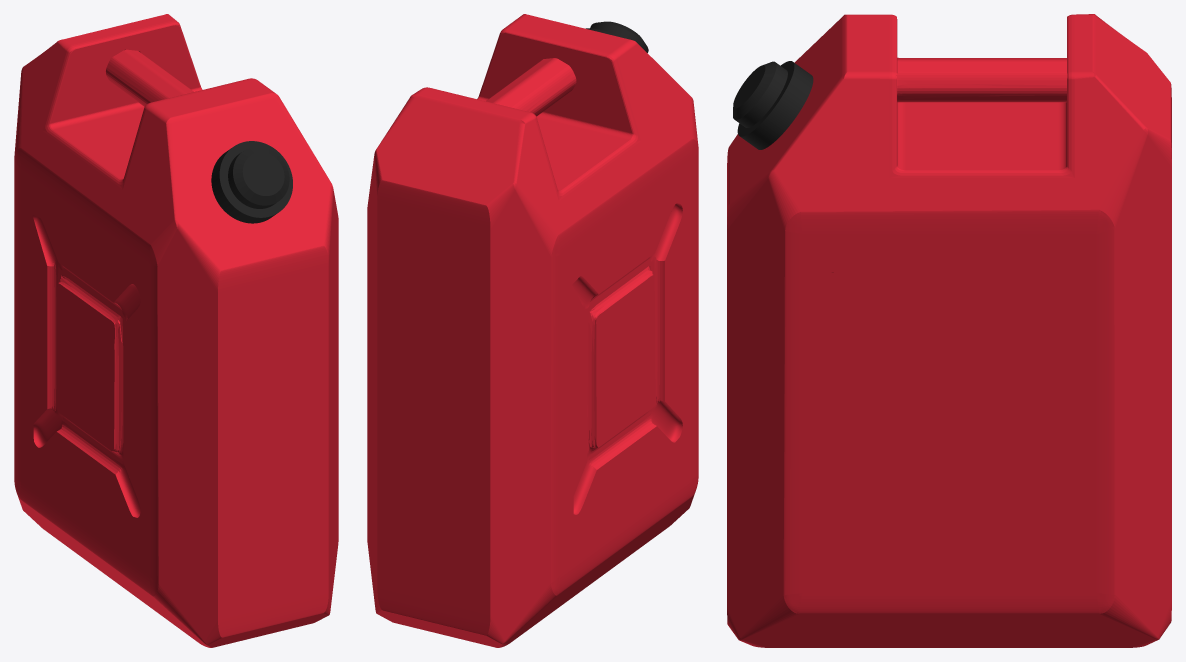
The model's file is 기름통.fbx.
The picture shows the model from 3 angles, left to right: view 1: azimuth 30°, elevation 25°; view 2: azimuth 150°, elevation 25°; view 3: azimuth 270°, elevation 25°; orthographic projection. The views are drawn at different scales.
Parts seen in each view (by area): view 1: Cube, Cylinder; view 2: Cube, Cylinder; view 3: Cube, Cylinder.
Boxes of the visible parts, bbox=[...] form: Cube: bbox=[14, 14, 338, 647]; Cylinder: bbox=[211, 141, 292, 223]; Cube: bbox=[367, 14, 698, 647]; Cylinder: bbox=[586, 21, 648, 52]; Cube: bbox=[727, 14, 1171, 647]; Cylinder: bbox=[733, 61, 813, 149].
Bounding box in the file's own units: 153 × 401 × 282.
